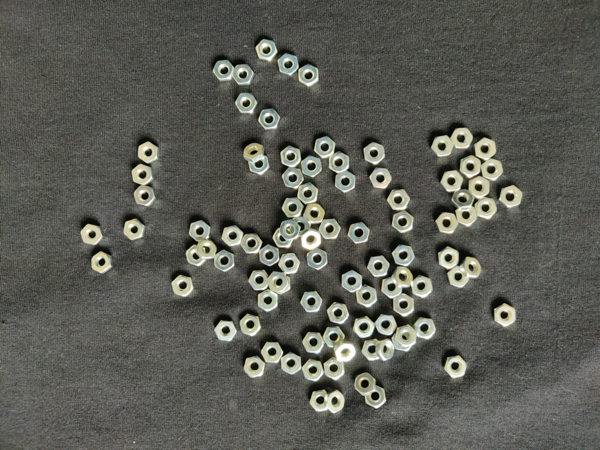nut: (499, 185, 523, 209), (494, 303, 517, 327), (444, 356, 468, 379), (411, 275, 434, 299), (354, 373, 377, 397), (474, 138, 497, 161), (363, 142, 386, 165), (414, 317, 437, 340), (395, 325, 418, 348), (327, 302, 350, 325), (277, 53, 299, 77), (171, 274, 193, 298), (481, 159, 504, 181), (475, 197, 497, 220), (431, 135, 454, 157), (436, 212, 459, 234), (353, 316, 375, 339), (365, 386, 387, 409), (356, 285, 378, 308), (314, 136, 336, 159), (323, 327, 346, 349), (302, 359, 324, 382), (300, 291, 323, 313), (258, 109, 281, 131), (303, 203, 326, 225), (279, 219, 301, 242), (240, 314, 262, 337), (138, 141, 160, 164), (134, 185, 157, 207), (470, 176, 491, 200), (440, 171, 464, 192), (439, 246, 460, 270), (394, 293, 415, 317), (324, 357, 345, 381), (325, 390, 346, 414), (448, 266, 470, 288), (393, 211, 415, 233), (393, 245, 415, 267), (392, 267, 414, 289), (334, 341, 356, 363), (244, 357, 266, 379), (283, 167, 305, 189), (215, 320, 237, 342), (222, 225, 244, 247), (189, 220, 211, 242), (451, 190, 474, 211), (348, 223, 371, 244), (261, 342, 284, 363), (319, 219, 342, 240), (307, 248, 328, 271), (235, 93, 258, 114), (232, 65, 255, 86), (267, 272, 290, 293), (123, 219, 146, 240), (81, 224, 104, 245), (387, 190, 411, 210), (451, 128, 473, 149), (461, 257, 482, 279), (370, 168, 392, 189), (382, 277, 403, 299), (376, 315, 398, 336), (368, 256, 390, 277), (342, 271, 363, 293), (335, 171, 356, 193), (329, 152, 350, 174), (303, 332, 325, 353), (281, 353, 302, 375), (257, 39, 278, 61), (281, 146, 302, 168), (298, 183, 319, 205), (282, 197, 304, 218), (132, 164, 154, 185), (92, 252, 113, 274), (376, 339, 396, 362), (302, 155, 322, 178), (214, 61, 235, 82), (301, 229, 322, 250), (461, 156, 481, 178), (299, 65, 319, 87), (290, 217, 312, 237), (260, 245, 280, 267), (258, 290, 278, 312), (241, 234, 263, 254), (215, 251, 235, 273), (195, 239, 217, 259), (186, 245, 206, 267), (392, 332, 413, 352), (244, 143, 265, 163), (249, 155, 270, 175), (273, 228, 294, 248), (279, 254, 300, 274), (310, 390, 328, 413), (457, 206, 477, 226), (249, 271, 269, 291), (362, 339, 380, 361), (275, 276, 290, 295)
